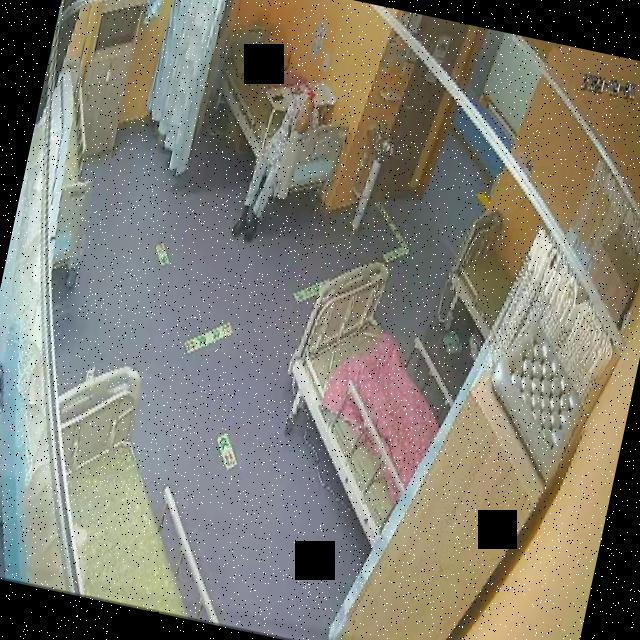bed: (18, 351, 266, 625), (262, 251, 468, 550), (196, 20, 364, 208), (437, 204, 527, 344)
patient: (228, 80, 324, 252)
sit: (228, 81, 324, 251)
